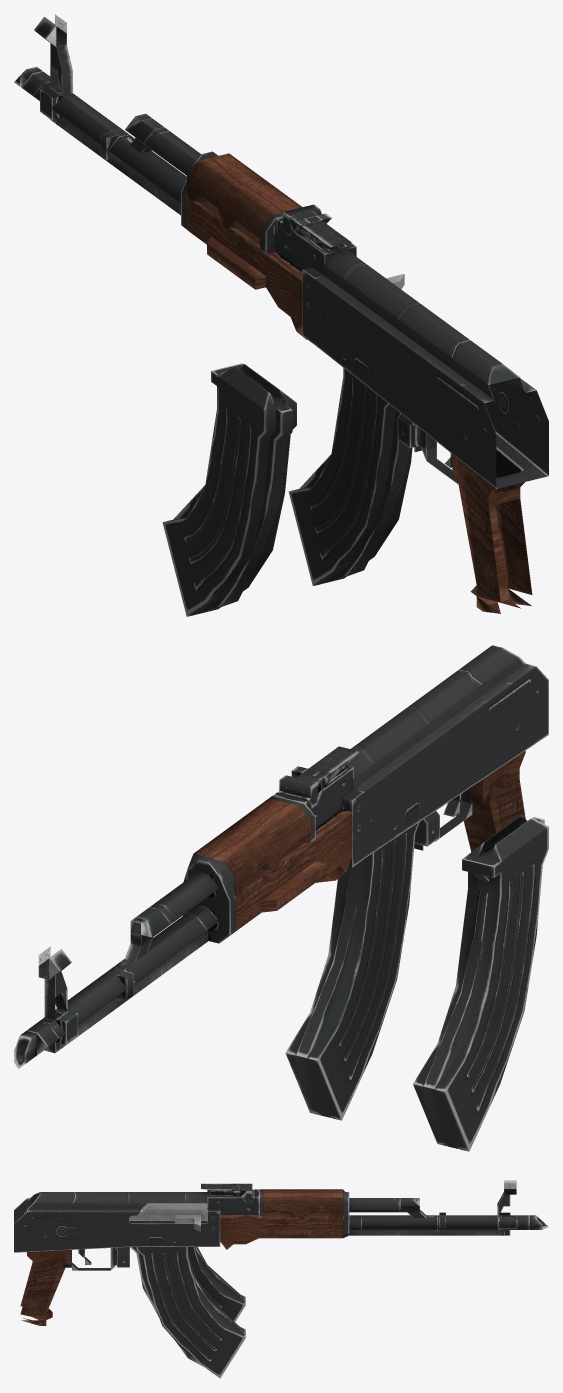
File: ironwood.glb
The picture shows the model from 3 angles, top to bottom: view 1: azimuth 30°, elevation 25°; view 2: azimuth 150°, elevation 25°; view 3: azimuth 270°, elevation 25°; orthographic projection. The views are drawn at different scales.
Visible parts, largest first — view 1: Object_19; view 2: Object_19; view 3: Object_19.
Part boxes in pixels (x1,y1,x2,y2): Object_19: (14, 14, 548, 616); Object_19: (14, 645, 548, 1151); Object_19: (14, 1180, 548, 1378).
Bounding box in the file's own units: 0.2021 × 0.351 × 0.8827.
1 material, 1 textured.
